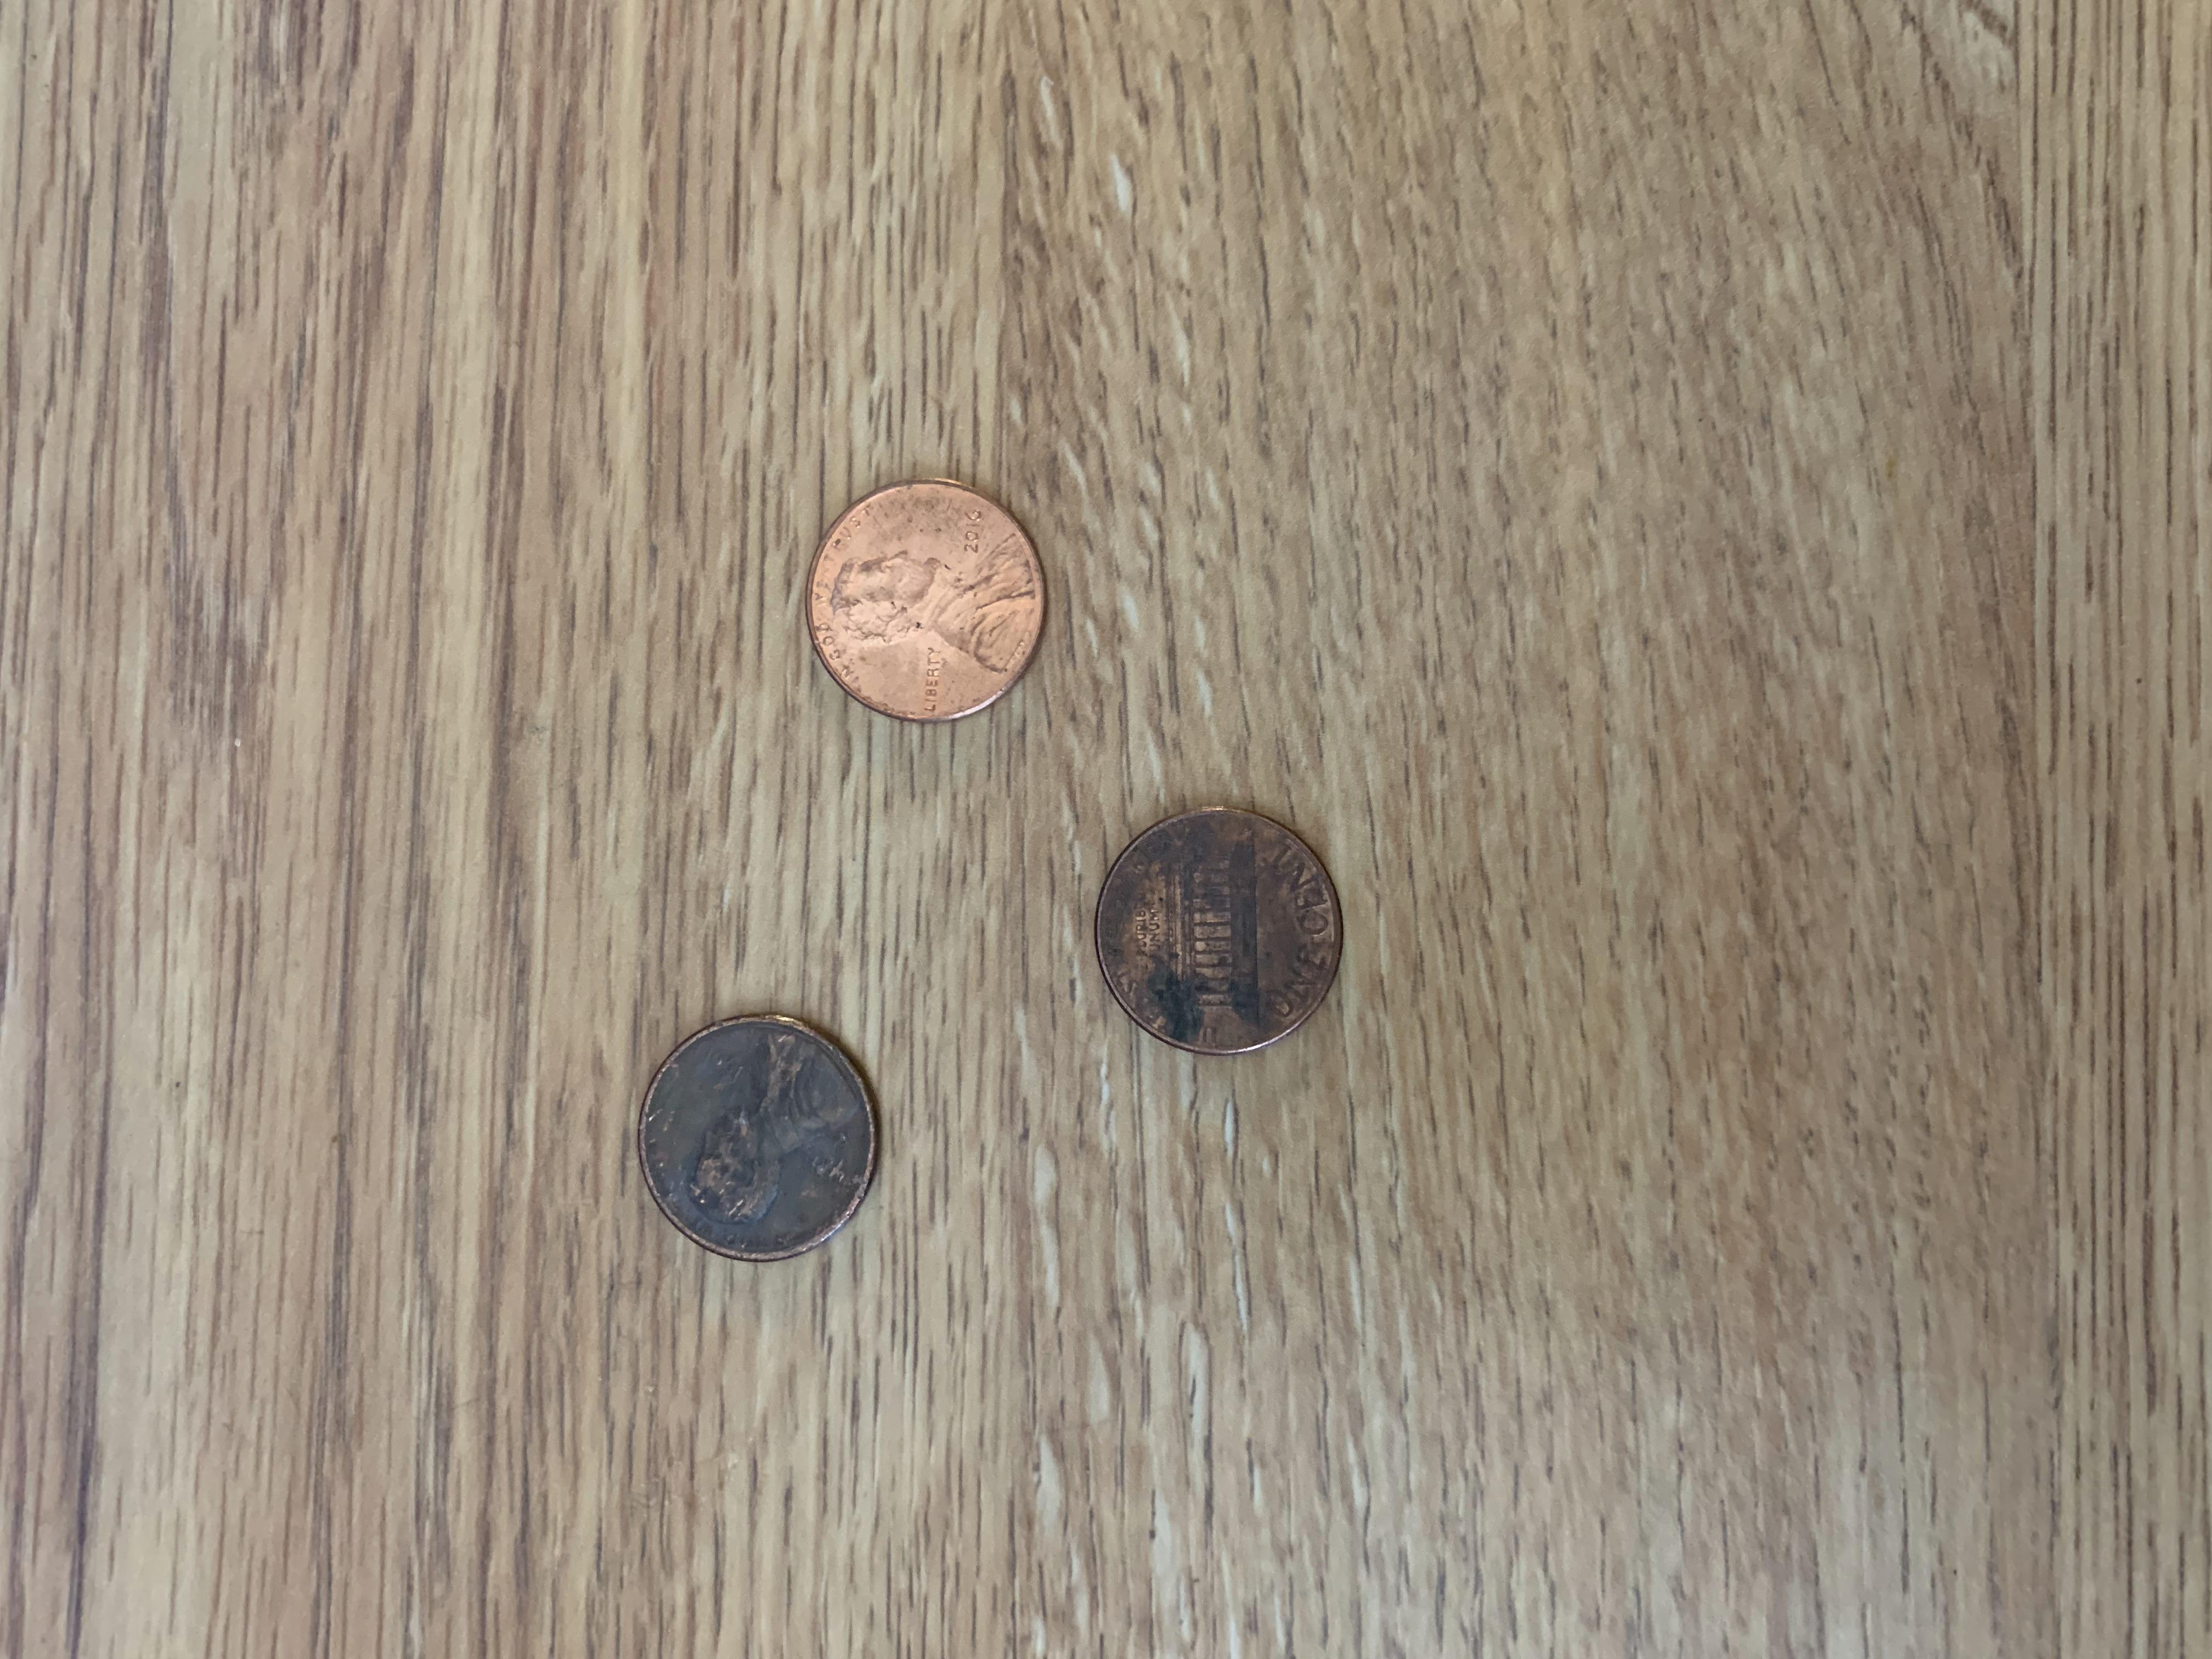Penny: (1078, 793, 1357, 1068), (792, 471, 1052, 744), (627, 1007, 892, 1270)
